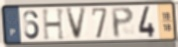4: (137, 4, 157, 40)
6: (23, 9, 41, 41)
7: (91, 7, 109, 40)
H: (41, 7, 66, 41)
P: (110, 6, 136, 40)
V: (65, 6, 89, 42)
